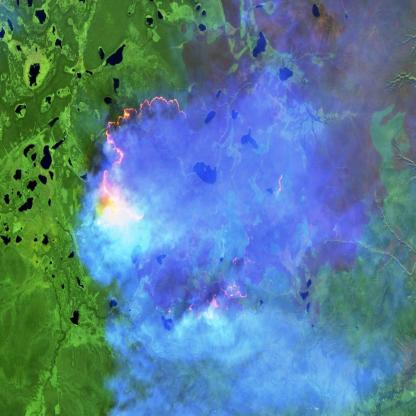fire: (91, 89, 292, 336)
